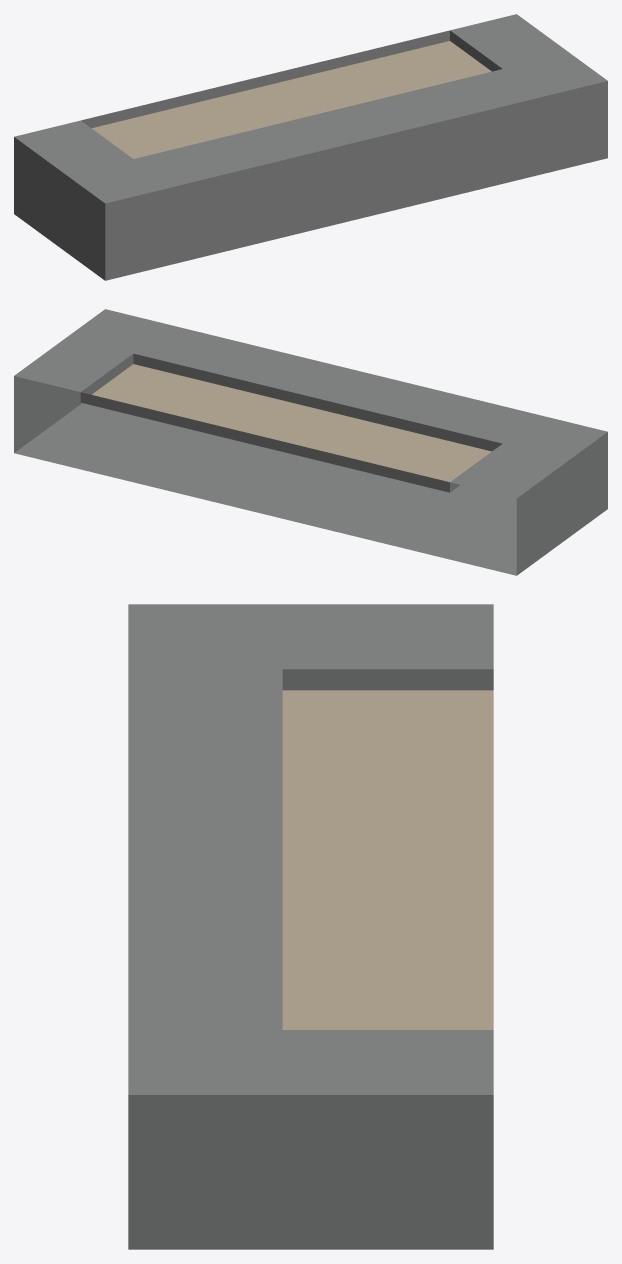
Rendered from Veranda_B_02.FBX.
3 views of the same model, one above another, from view 1: azimuth 30°, elevation 25°; view 2: azimuth 150°, elevation 25°; view 3: azimuth 270°, elevation 25° (orthographic). The views are drawn at different scales.
Visible parts, largest first — view 1: Veranda_B_02; view 2: Veranda_B_02; view 3: Veranda_B_02.
Boxes of the visible parts, x1,y1,x2,y2 form: Veranda_B_02: (14, 14, 607, 280); Veranda_B_02: (14, 309, 607, 575); Veranda_B_02: (128, 604, 493, 1249).
Bounding box in the file's own units: 1.51 × 0.2215 × 0.474.
